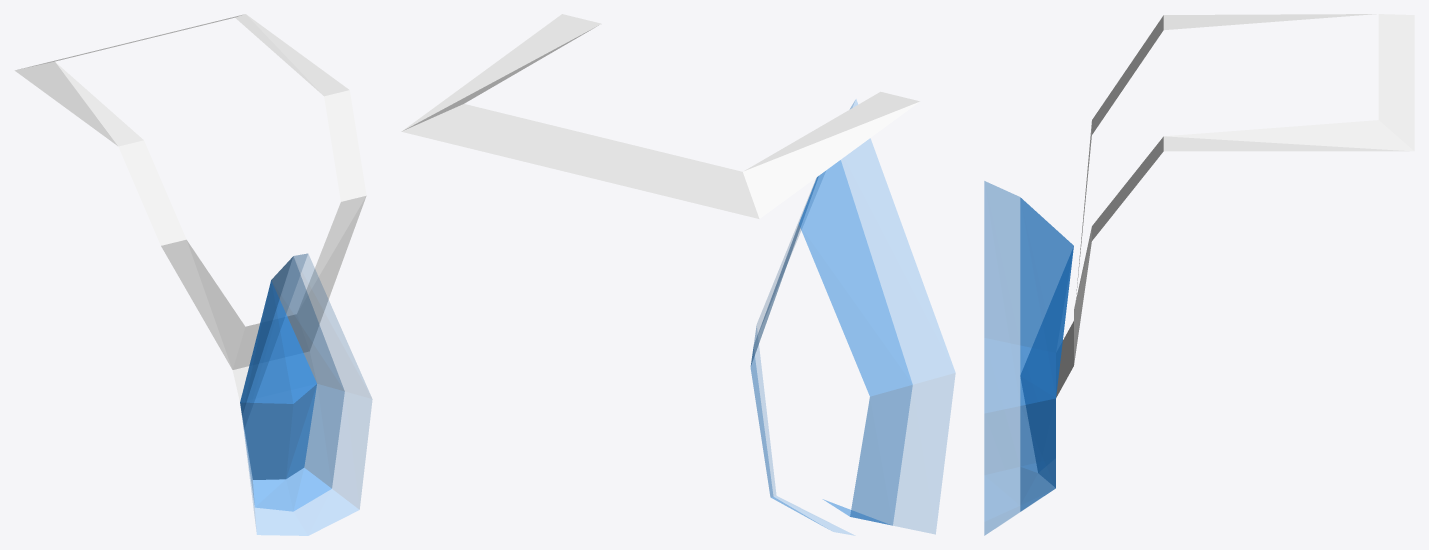
3 renders of one model, left to right at view 1: azimuth 30°, elevation 25°; view 2: azimuth 150°, elevation 25°; view 3: azimuth 270°, elevation 25°, orthographic. The views are drawn at different scales.
Bounding box in the file's own units: 18 × 28 × 24.
Materials: 2 (2 with a texture image).
